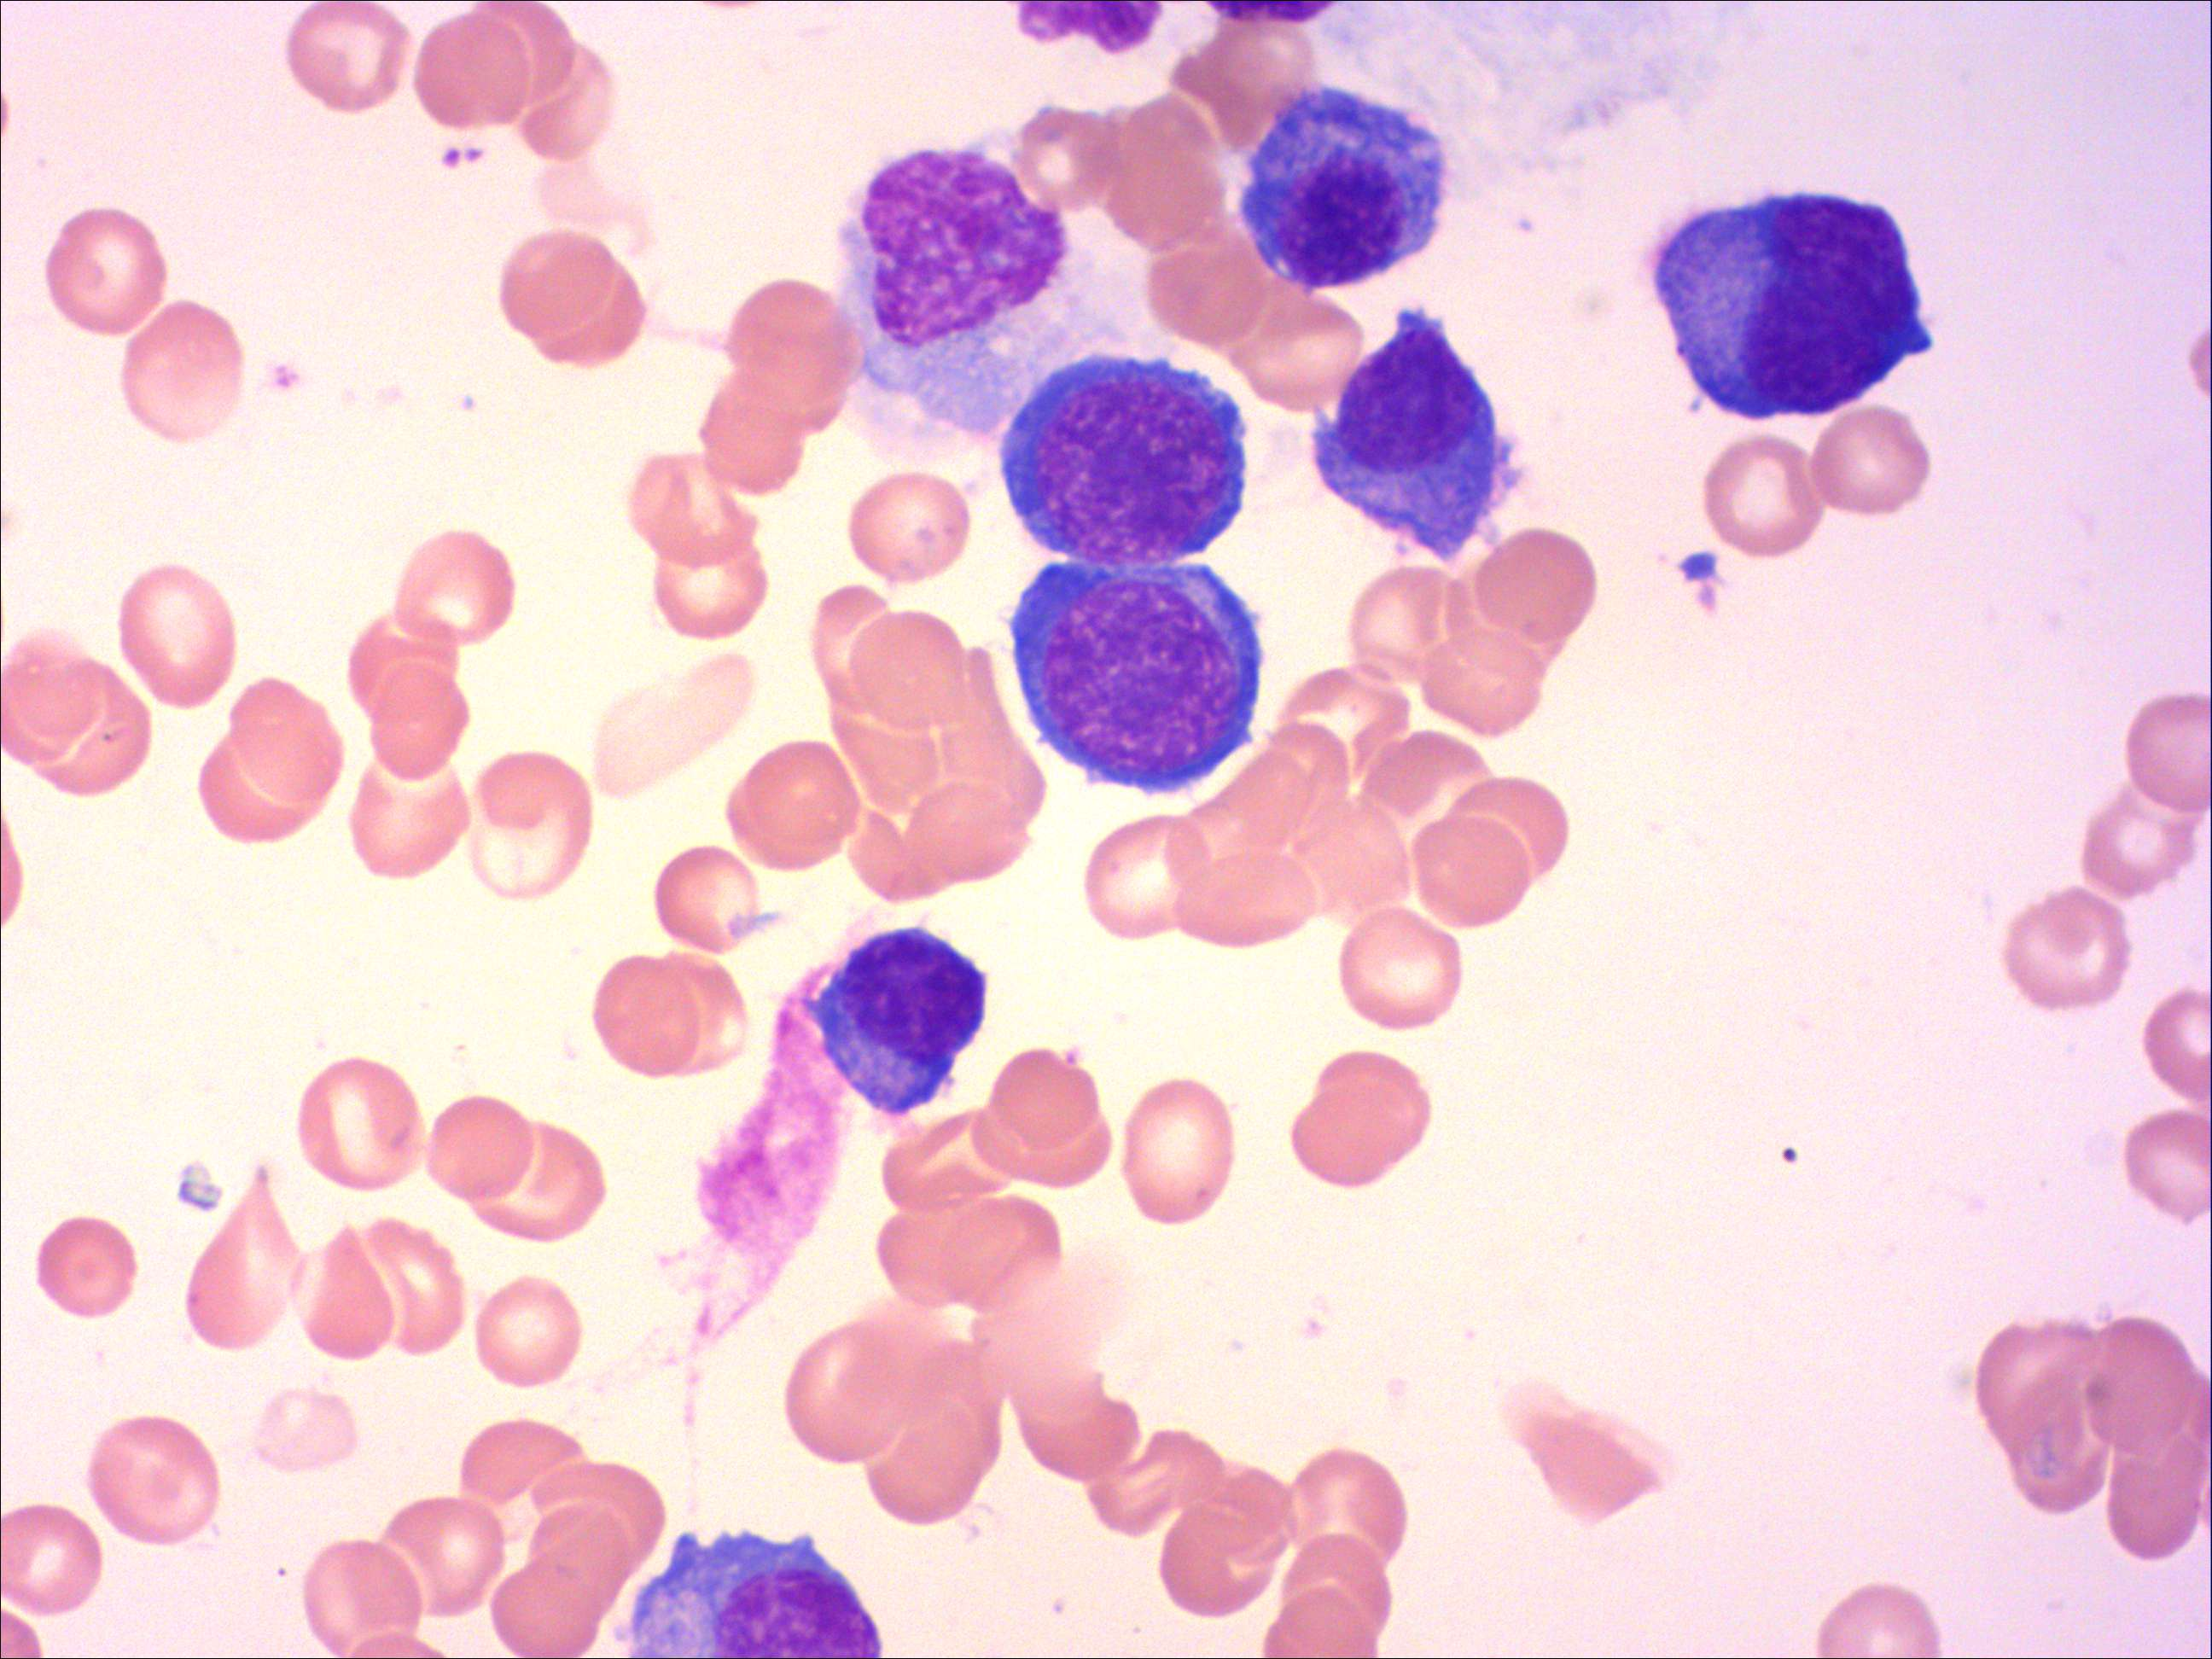23: (1005, 554, 1270, 800), (991, 345, 1251, 572)
51: (1644, 185, 1937, 427), (1305, 303, 1526, 573), (1233, 78, 1447, 301), (792, 913, 993, 1127)
x: (820, 136, 1184, 451), (618, 1523, 892, 1659)
